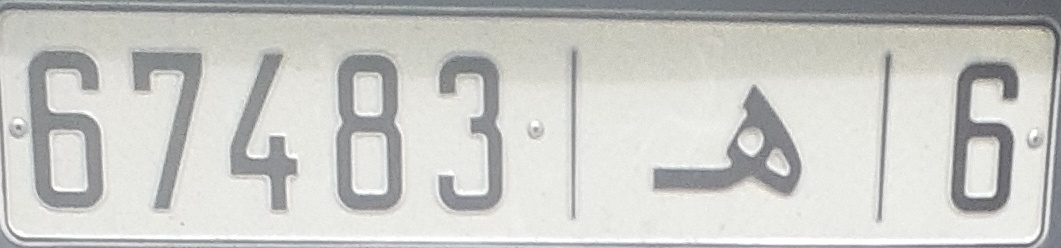3: (221, 41, 307, 218), (429, 48, 508, 216)
6: (20, 43, 114, 213), (946, 57, 1020, 217)
7: (124, 41, 208, 220)
8: (330, 50, 410, 217)
h: (648, 81, 807, 203)
